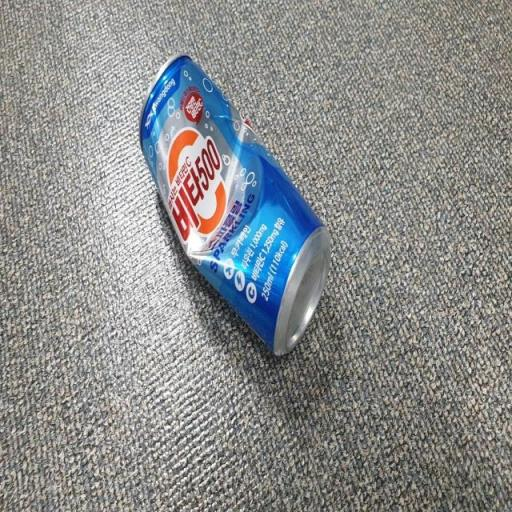metal: (127, 38, 346, 388)
